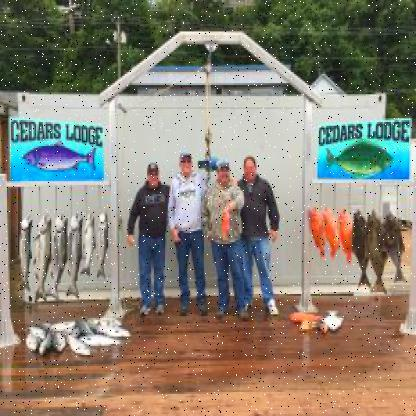fish: (42, 210, 68, 298), (31, 210, 50, 302), (65, 210, 83, 296), (17, 212, 33, 290), (94, 210, 108, 276), (78, 212, 92, 274), (78, 332, 124, 345), (90, 324, 130, 338), (66, 331, 89, 355), (37, 326, 53, 356), (51, 323, 64, 353), (42, 319, 74, 331), (24, 322, 44, 340), (26, 332, 36, 350)
